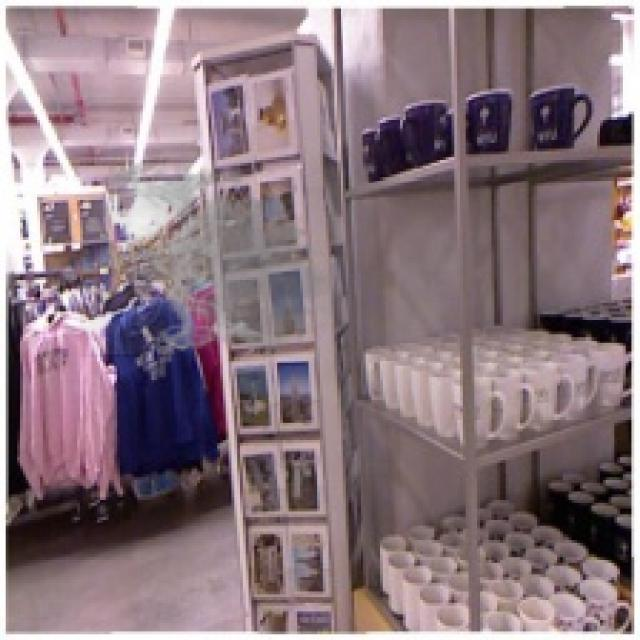Smoke: (80, 157, 346, 357)
